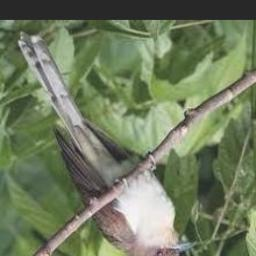Cuckoo: (17, 30, 195, 256)
